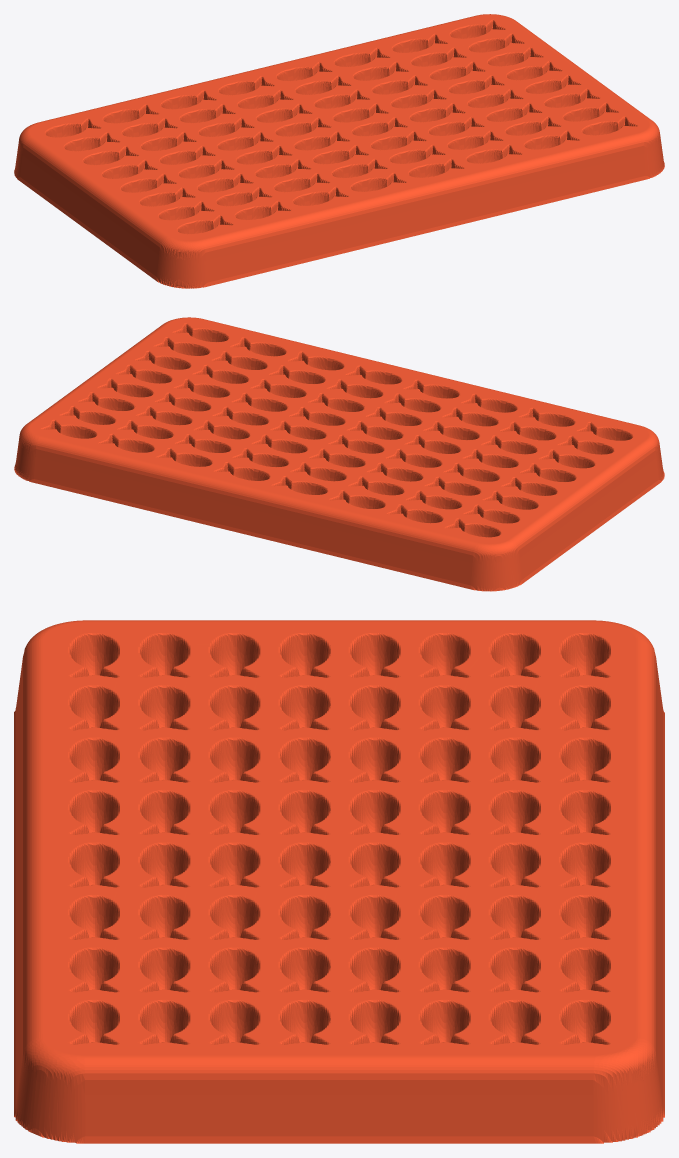
File: mold.glb
3 views of the same model, one above another, from view 1: azimuth 30°, elevation 25°; view 2: azimuth 150°, elevation 25°; view 3: azimuth 270°, elevation 25° (orthographic). The views are drawn at different scales.
Parts seen in each view (by area): view 1: geometry_0; view 2: geometry_0; view 3: geometry_0.
Part boxes in pixels (box(x1,y1,x2,y2)): geometry_0: box(14, 14, 664, 288); geometry_0: box(14, 317, 664, 591); geometry_0: box(14, 620, 664, 1143).
Size of the model in its own units: 0.1355 by 0.0105 by 0.0815.
